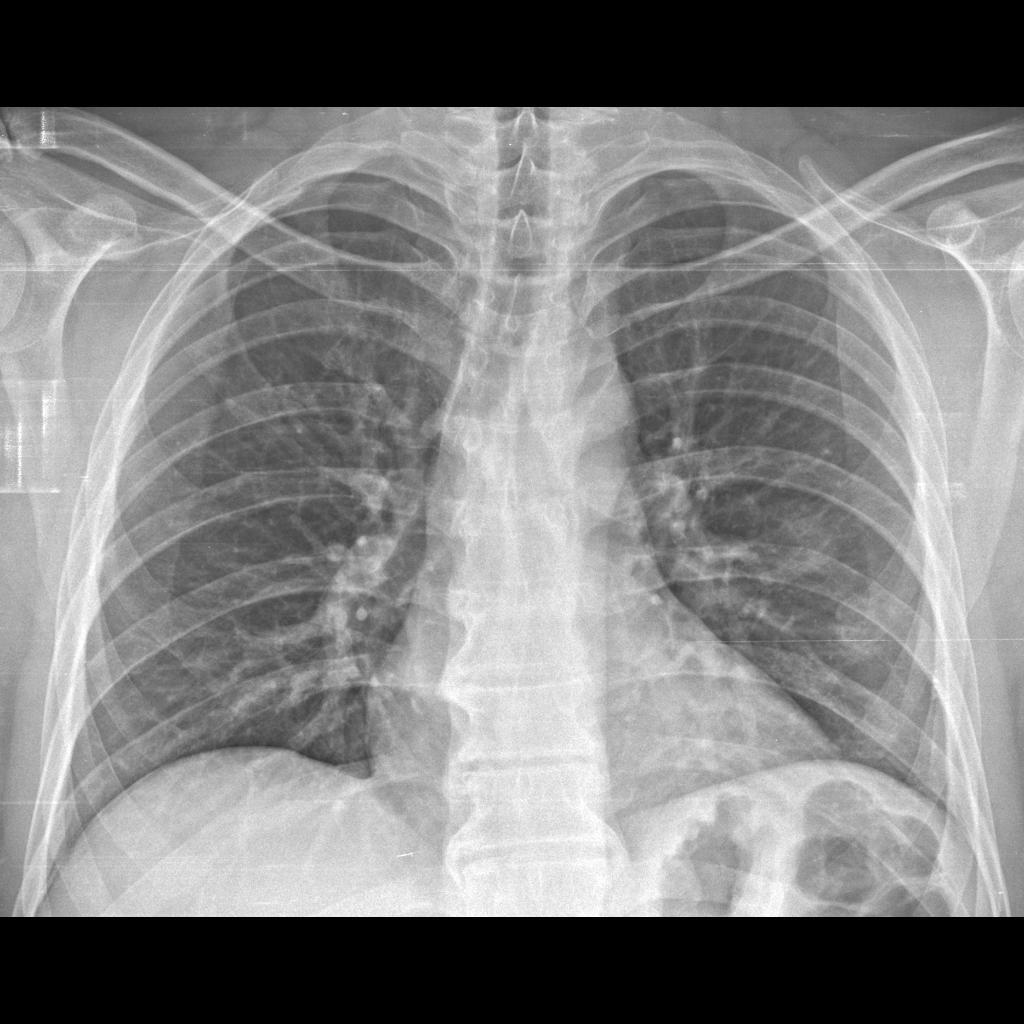Nodule: (825, 588, 899, 663)
